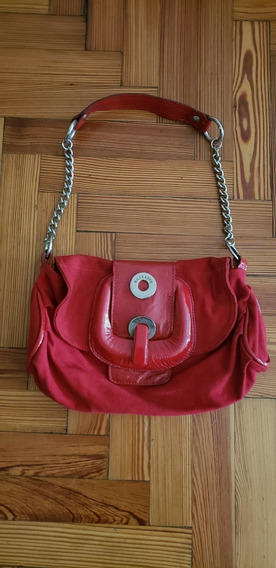cartera: (29, 91, 271, 416)
